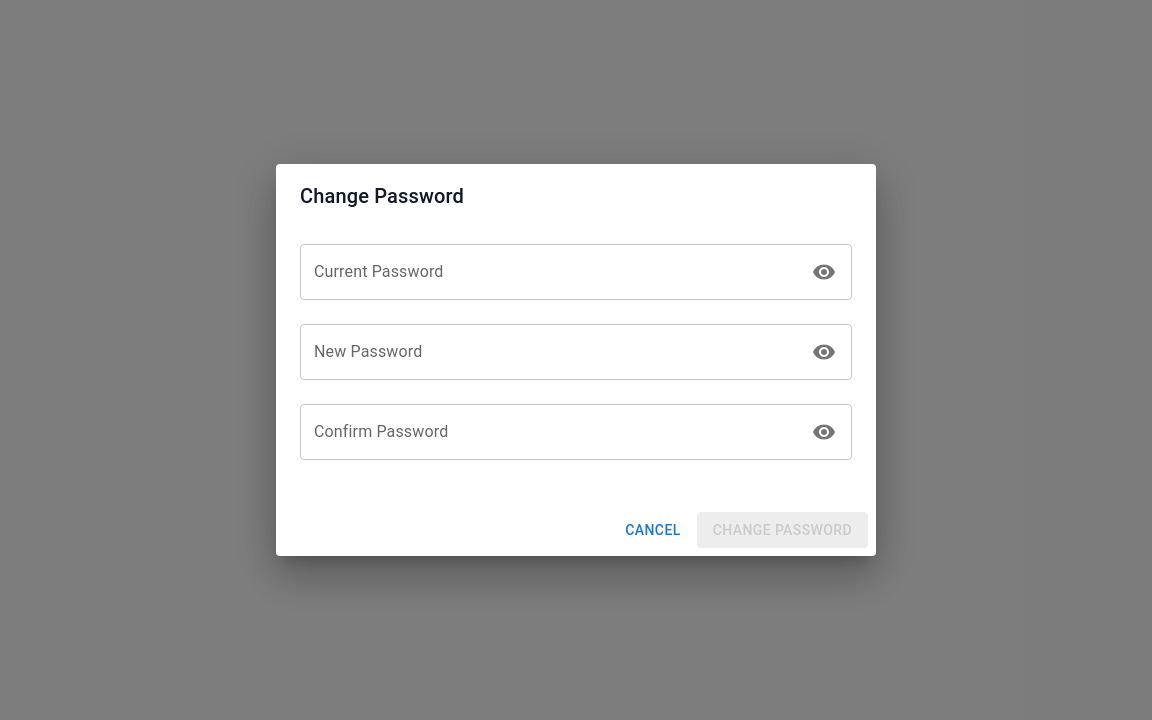
Test case: ChangePasswordModal › Password Strength Indicator › should display password strength indicator when new password is entered
Step 1. Type "Test123!@#" into the password field labelled "New Password" → (554, 352), box [300,324,807,380]
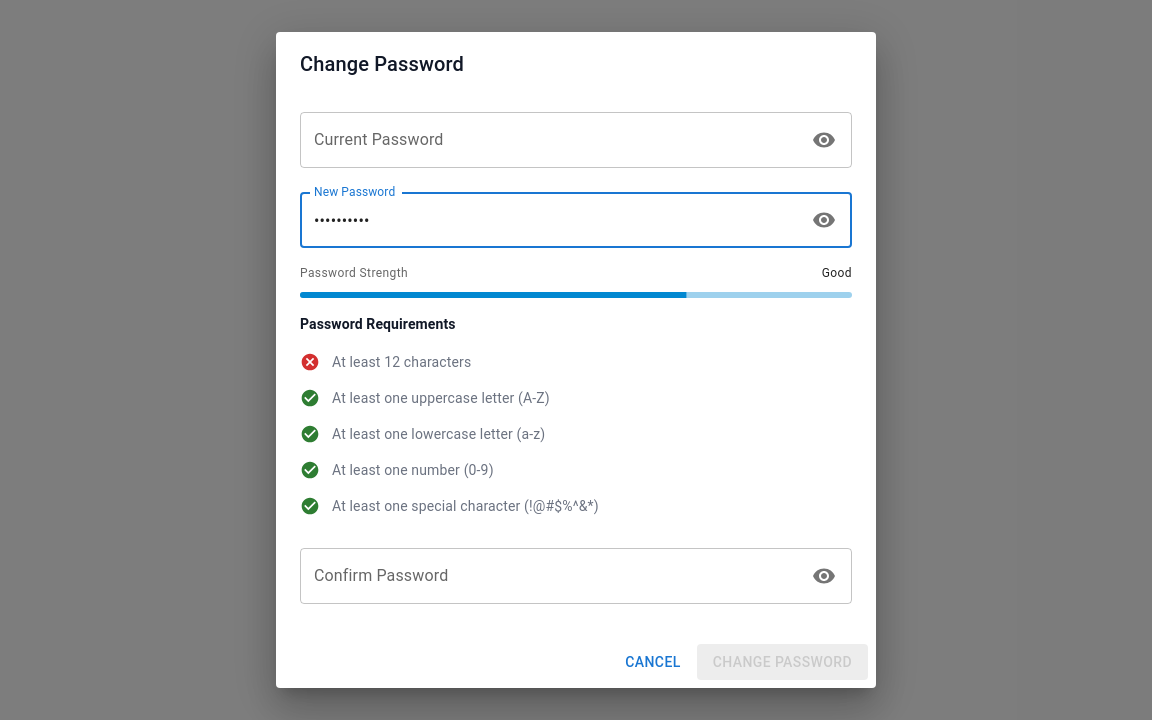
Expected: the text "Password Strength" is shown, [300,264,408,284]
